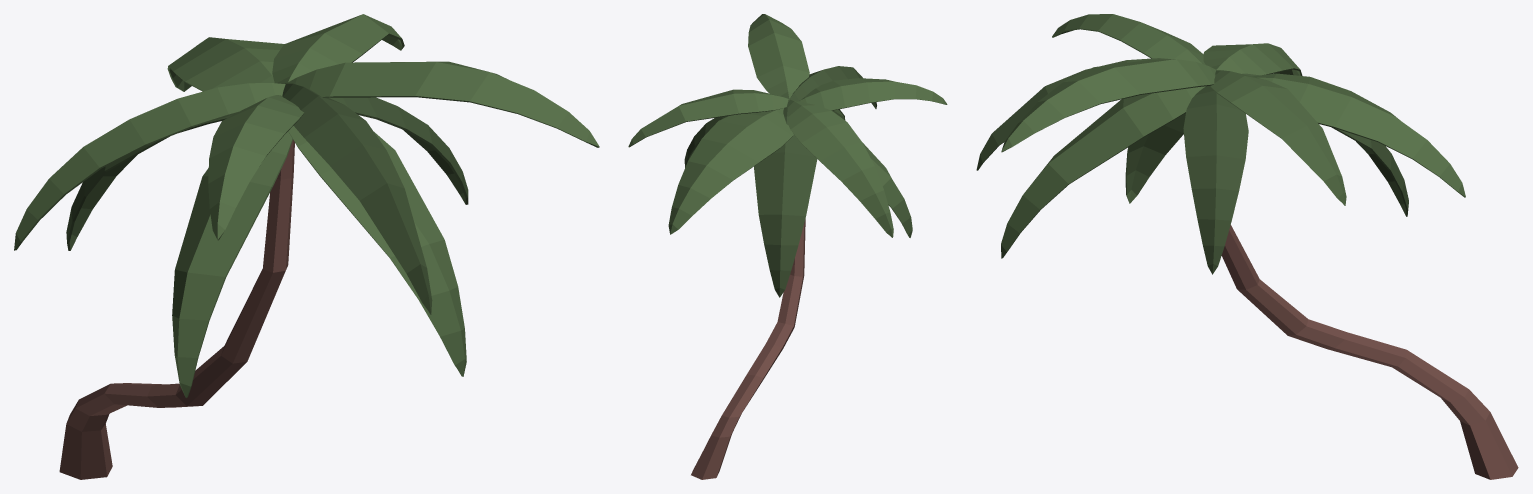
File: PalmTree_2.gltf
3 views of the same model, side by side, from view 1: azimuth 30°, elevation 25°; view 2: azimuth 150°, elevation 25°; view 3: azimuth 270°, elevation 25° (orthographic). The views are drawn at different scales.
Visible parts, largest first — view 1: PalmTree_2; view 2: PalmTree_2; view 3: PalmTree_2.
Boxes of the visible parts, x1,y1,x2,y2 form: PalmTree_2: [14, 14, 599, 479]; PalmTree_2: [628, 14, 947, 479]; PalmTree_2: [976, 14, 1518, 479].
Size of the model in its own units: 2.32 by 2.91 by 3.18.
